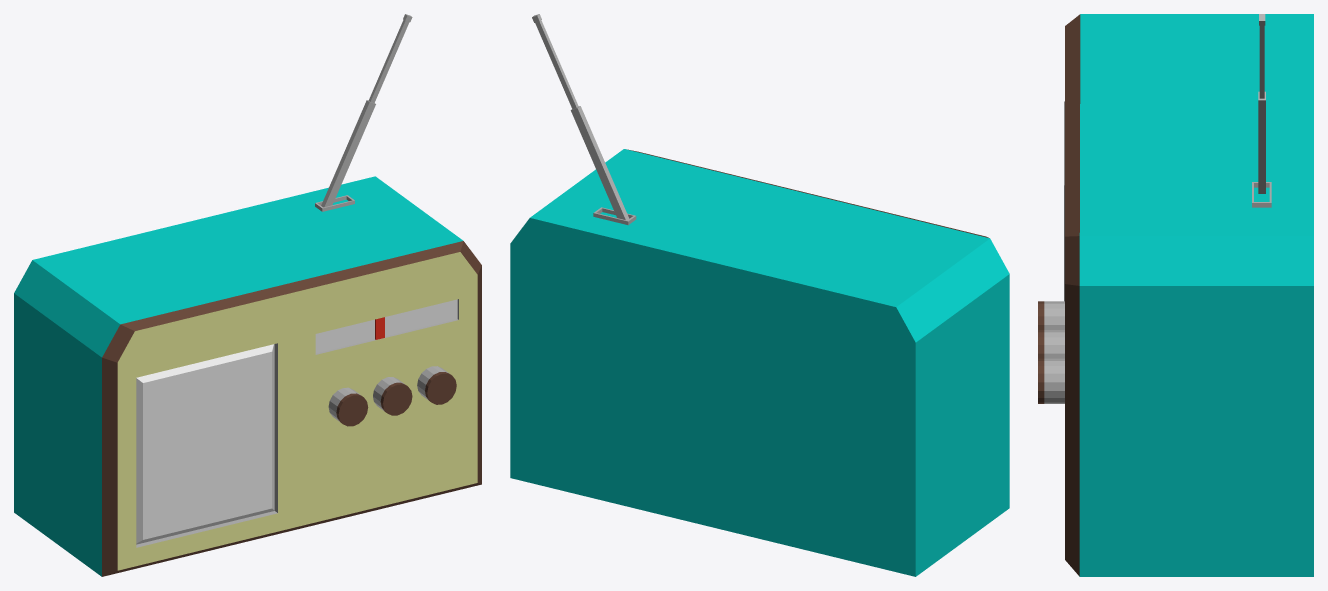
Rendered from Radio.fbx.
3 views of the same model, side by side, from view 1: azimuth 30°, elevation 25°; view 2: azimuth 150°, elevation 25°; view 3: azimuth 270°, elevation 25° (orthographic). The views are drawn at different scales.
Visible parts, largest first — view 1: Radio; view 2: Radio; view 3: Radio.
Boxes of the visible parts, x1=… form: Radio: x1=14, y1=14, x2=481, y2=576; Radio: x1=510, y1=14, x2=1009, y2=576; Radio: x1=1038, y1=14, x2=1313, y2=576.
Bounding box in the file's own units: 182 × 193 × 86.22.
